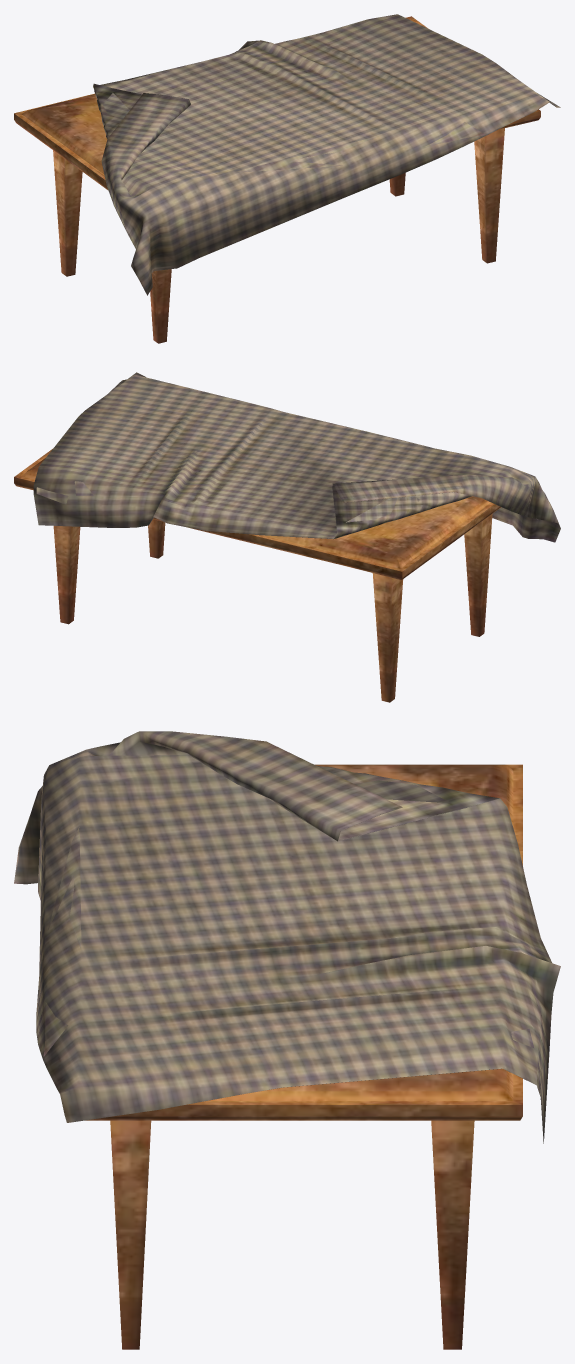
The model's file is dining_table.glb.
3 renders of one model, top to bottom at view 1: azimuth 30°, elevation 25°; view 2: azimuth 150°, elevation 25°; view 3: azimuth 270°, elevation 25°, orthographic. The views are drawn at different scales.
Parts seen in each view (by area): view 1: dining_table; view 2: dining_table; view 3: dining_table.
Boxes of the visible parts, box(x1,y1,x2,y2) form: dining_table: box(14, 14, 560, 343); dining_table: box(14, 372, 560, 702); dining_table: box(14, 731, 560, 1349).
Bounding box in the file's own units: 2.26 × 0.877 × 1.39.
Materials: 1 (1 with a texture image).
